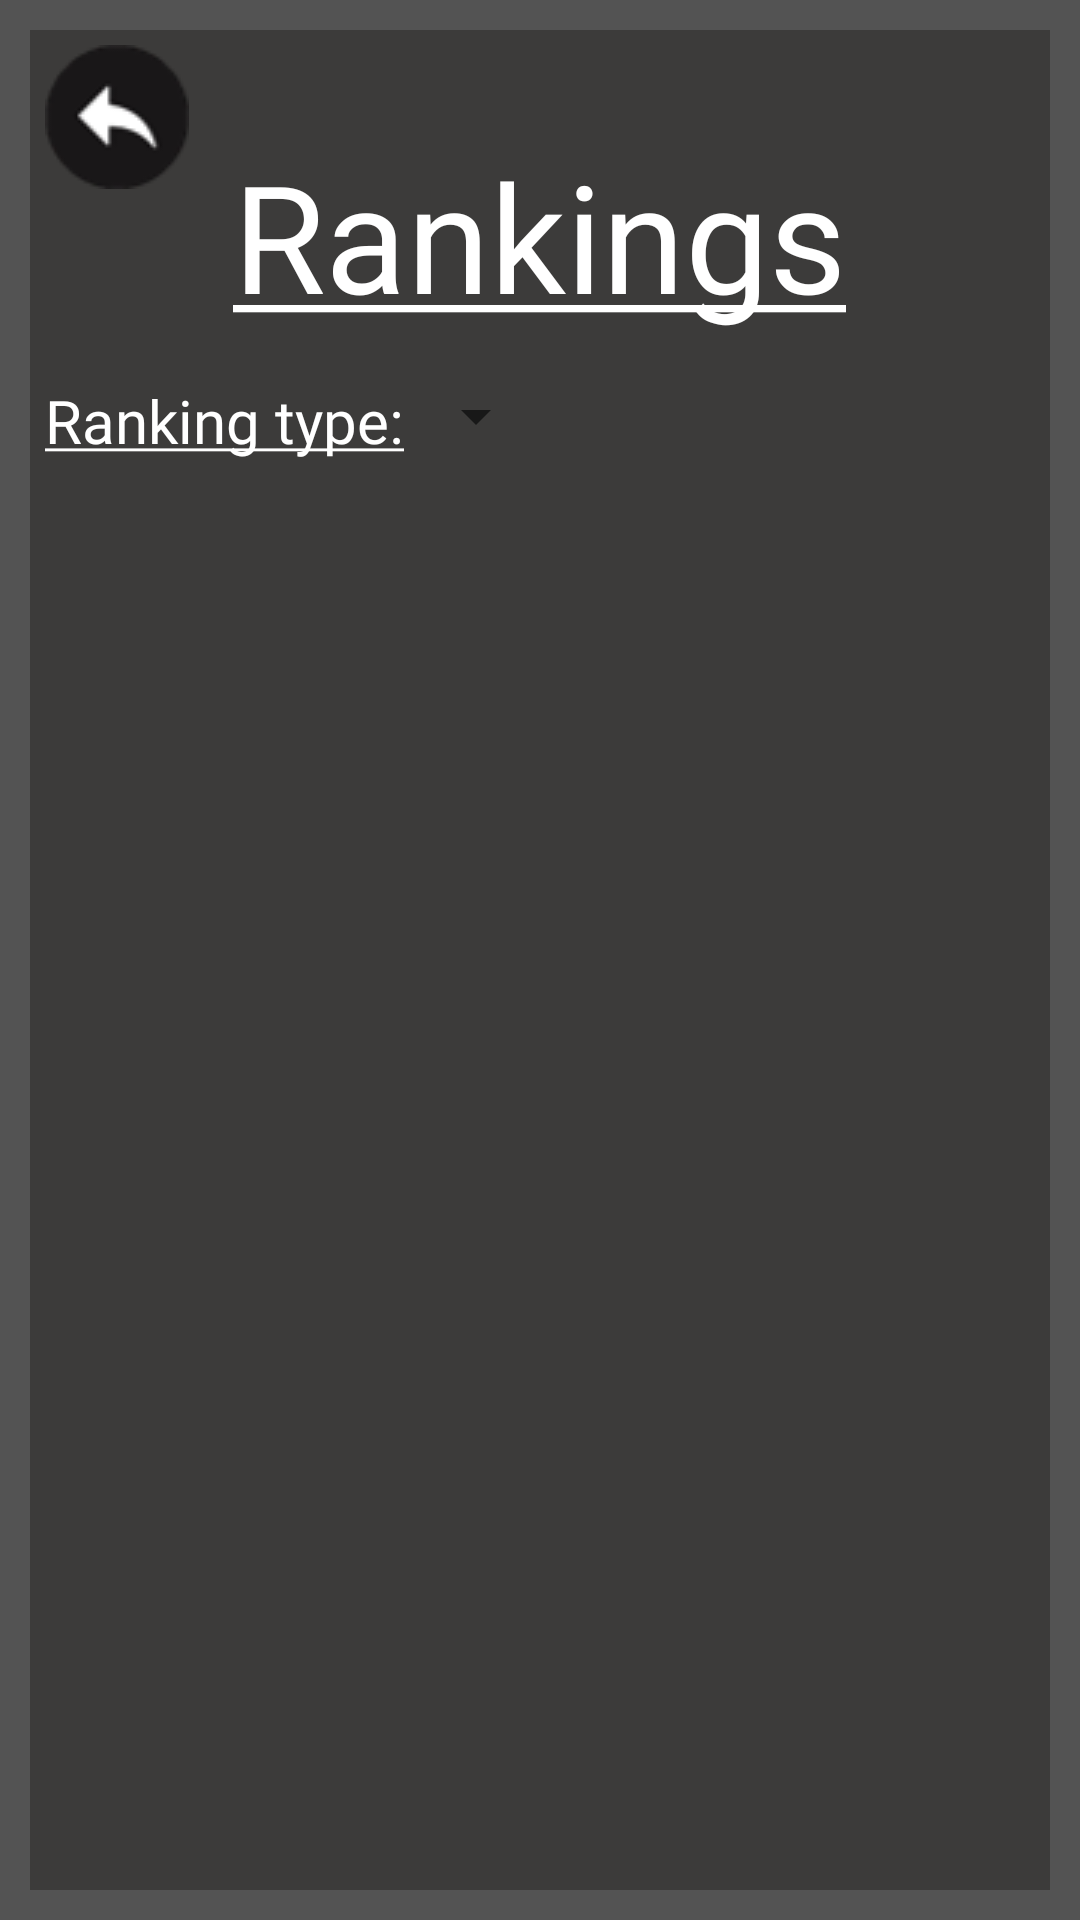

Point at icon controls on the screen. Image size 1080w x 1920h, points as point (x, y).
go back: point (118, 117)
